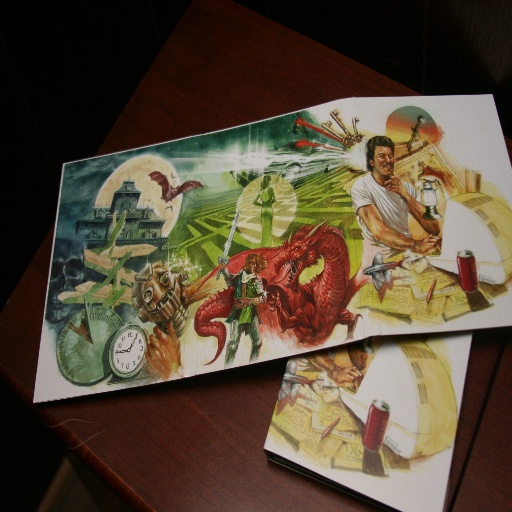hand: (140, 317, 182, 380), (334, 362, 362, 384), (419, 161, 440, 184), (417, 233, 442, 252), (385, 173, 403, 191), (238, 298, 249, 308), (219, 263, 225, 272)
